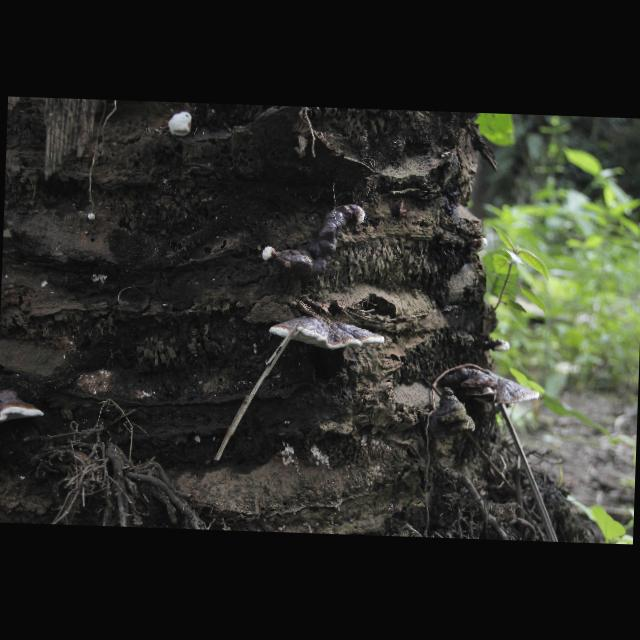ganoderma: (276, 201, 353, 281), (269, 313, 387, 353), (475, 369, 541, 406), (1, 387, 46, 427), (455, 367, 500, 399), (484, 339, 512, 352)
primordium: (168, 112, 195, 139), (467, 237, 489, 255), (351, 203, 367, 226), (262, 245, 278, 263), (87, 213, 96, 222)
